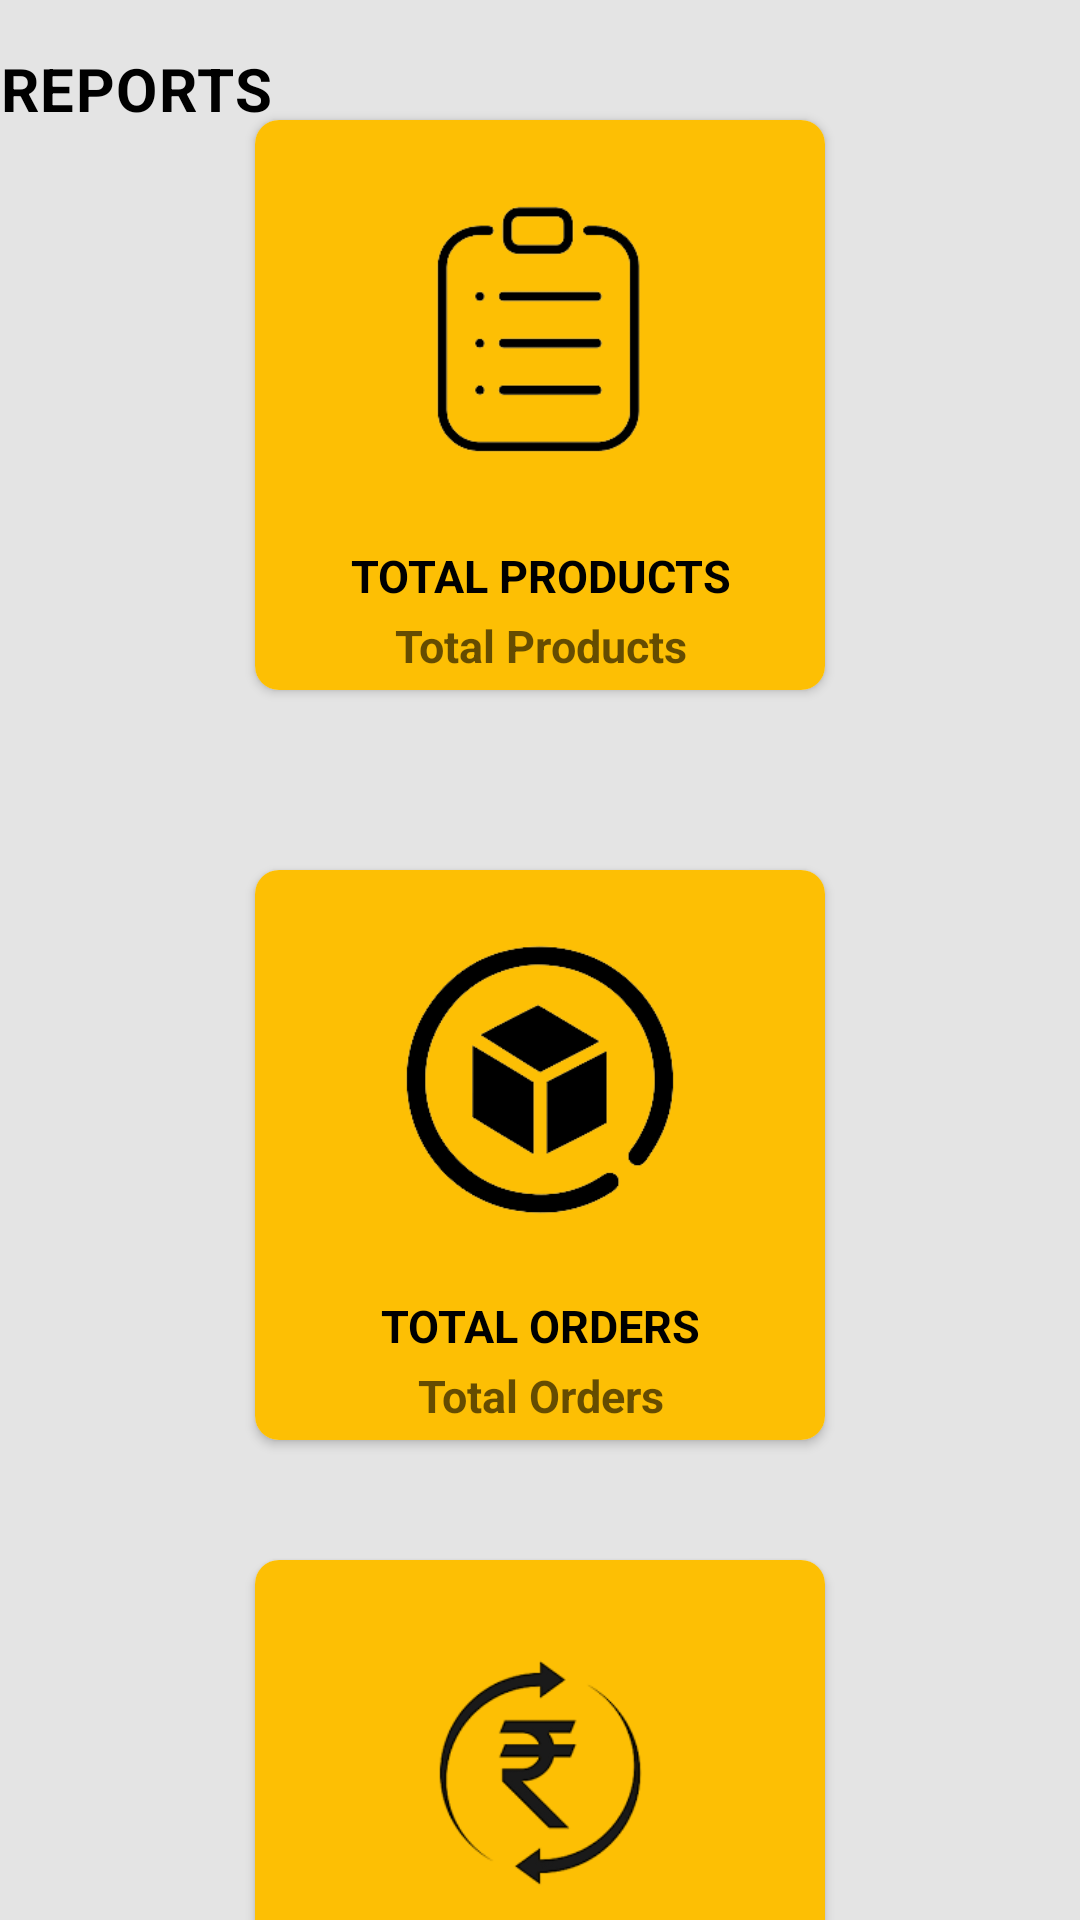

Where icons sit on this 1080*1920 app screen, as (x1, y1, x2, y2):
sale: (439, 1661, 641, 1884)
